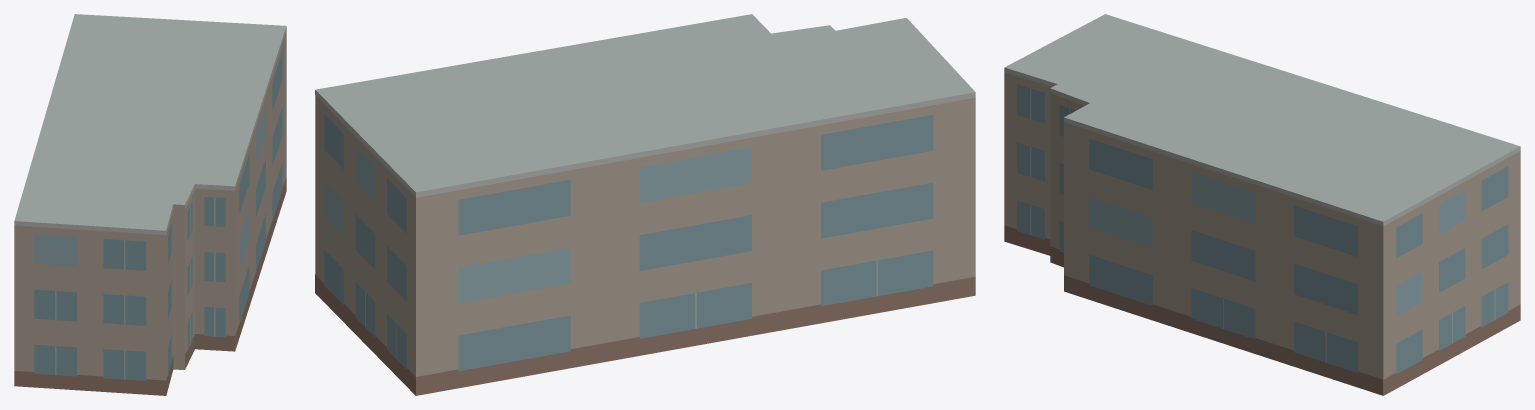
Rendered from survey-upis-33043302.glb.
3 views of the same model, side by side, from view 1: azimuth 30°, elevation 25°; view 2: azimuth 150°, elevation 25°; view 3: azimuth 270°, elevation 25° (orthographic). The views are drawn at different scales.
Visible parts, largest first — view 1: survey-upis-33043302.tmp; view 2: survey-upis-33043302.tmp; view 3: survey-upis-33043302.tmp.
Part boxes in pixels (left/top/right/bottom): survey-upis-33043302.tmp: left=14, top=14, right=286, bottom=395; survey-upis-33043302.tmp: left=315, top=14, right=975, bottom=395; survey-upis-33043302.tmp: left=1004, top=14, right=1520, bottom=395.
Size of the model in its own units: 23.44 by 9.15 by 24.61.
